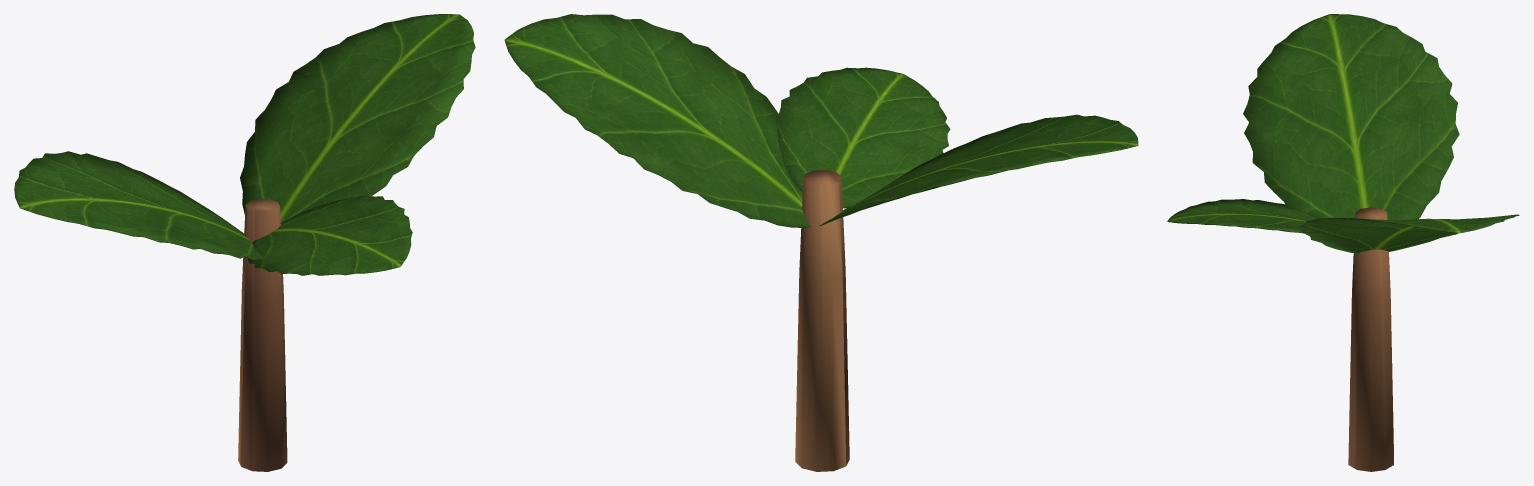
Rendered from NP_Blackberry_Sprout.fbx.
3 renders of one model, left to right at view 1: azimuth 30°, elevation 25°; view 2: azimuth 150°, elevation 25°; view 3: azimuth 270°, elevation 25°, orthographic. The views are drawn at different scales.
Visible parts, largest first — view 1: NP_Blackberry_Sprout; view 2: NP_Blackberry_Sprout; view 3: NP_Blackberry_Sprout.
Boxes of the visible parts, x1,y1,x2,y2 form: NP_Blackberry_Sprout: (14, 14, 475, 471); NP_Blackberry_Sprout: (504, 14, 1138, 471); NP_Blackberry_Sprout: (1167, 14, 1519, 471).
Size of the model in its own units: 37.71 by 25.44 by 23.5.
